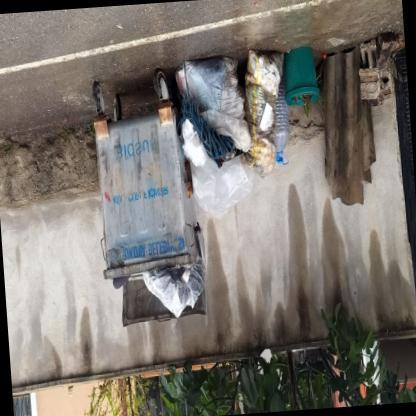Garbage: (187, 53, 262, 216), (232, 46, 293, 192), (146, 262, 208, 320)
